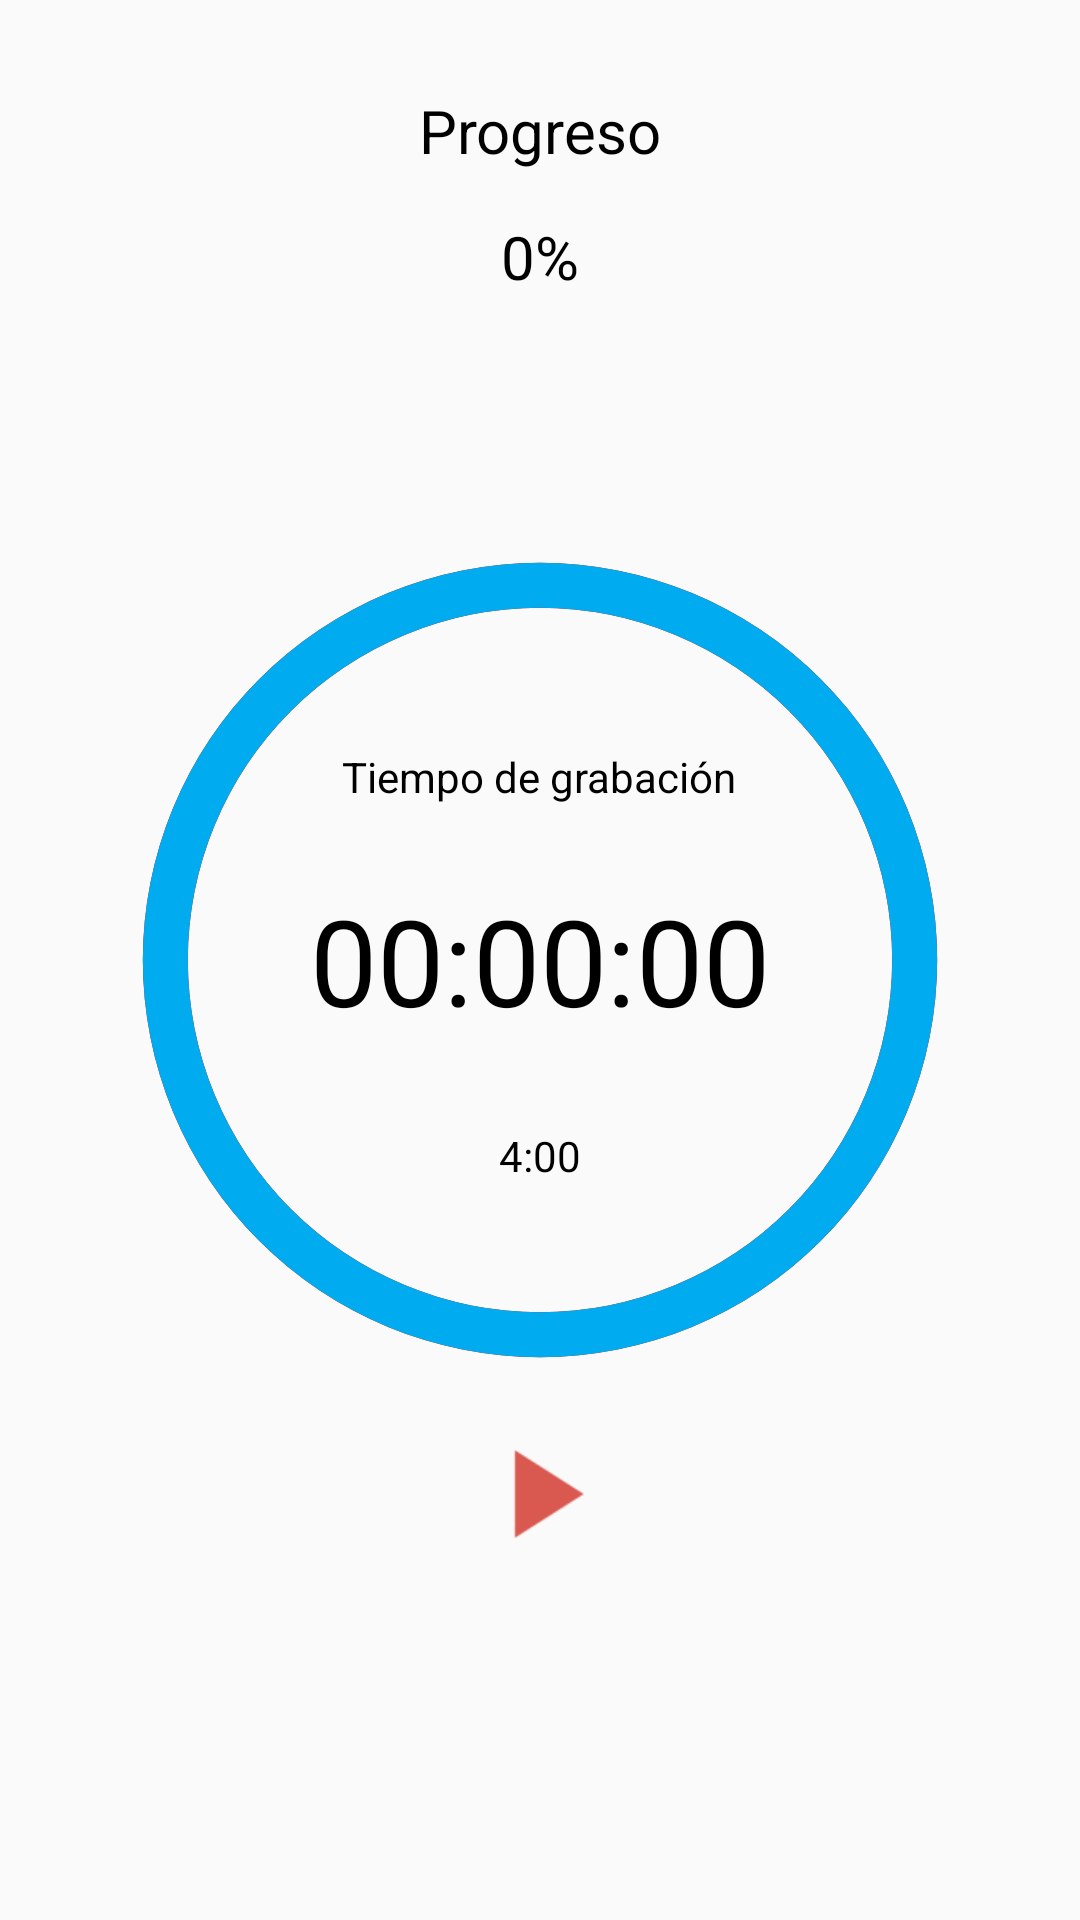

Icons on this 1080*1920 Android screen, each with the point to tap as [x,y]:
start recording: [549,1494]
